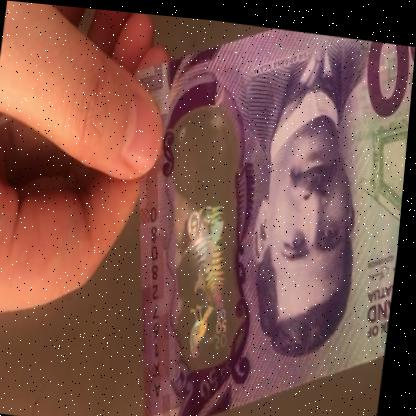50F: (163, 114, 255, 361)
